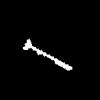half_double_crochet: (23, 39, 71, 69)
